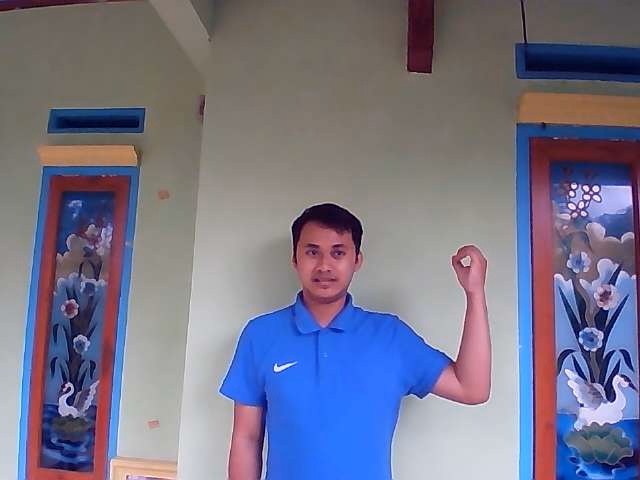O: (450, 243, 490, 292)
